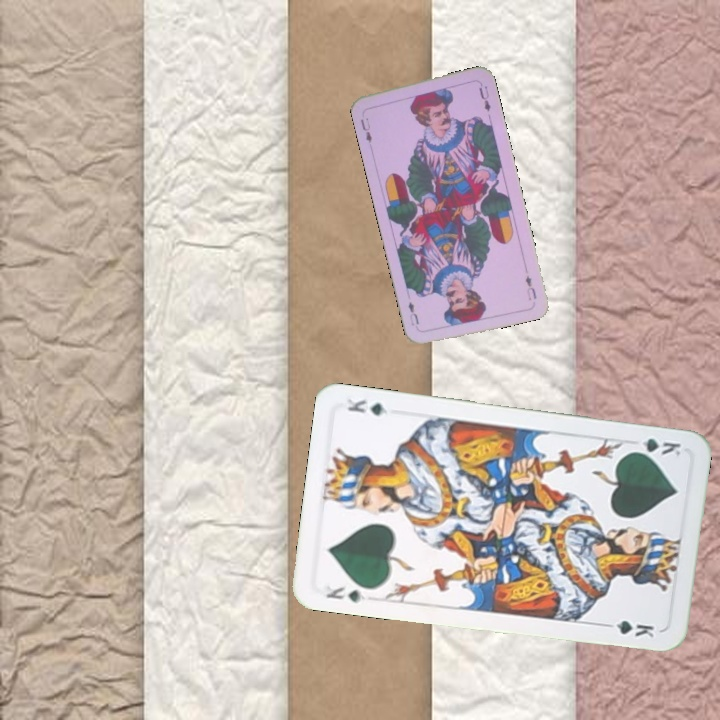EU: (356, 113, 375, 145), (521, 271, 539, 303)
GK: (626, 434, 686, 458), (321, 582, 369, 605)
